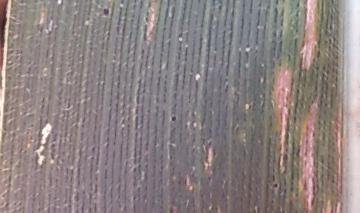tarspot: (167, 112, 181, 125), (270, 179, 282, 193), (99, 6, 112, 18)
